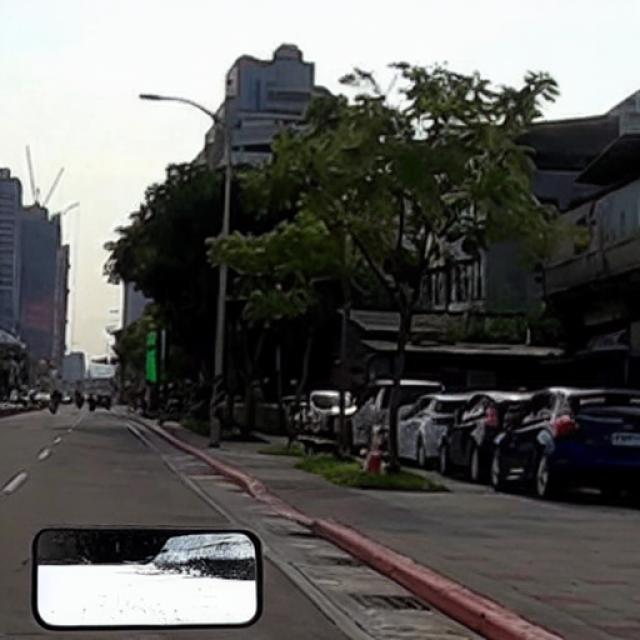puddle: (35, 524, 262, 630)
